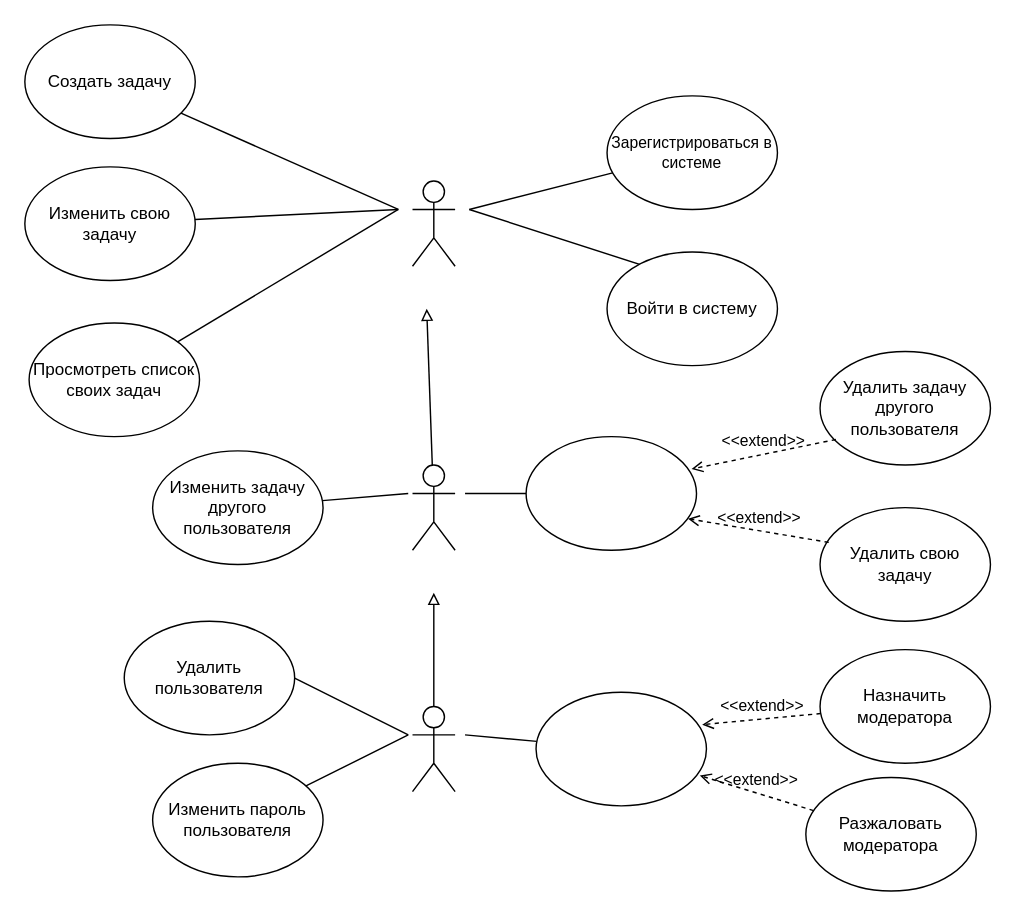
Some shapes in this 1015 by 916 pixel diagram are drawn without their labels. The shapes that lost their labels are listed below. From the top down, each one's centre as x and y in pixels, then its label:
At (433,223): "Пользователь".
At (433,507): "Модератор".
At (611,492): "Удалить задачу".
At (433,748): "Администратор".
At (620,748): "Действие с модераторами".
